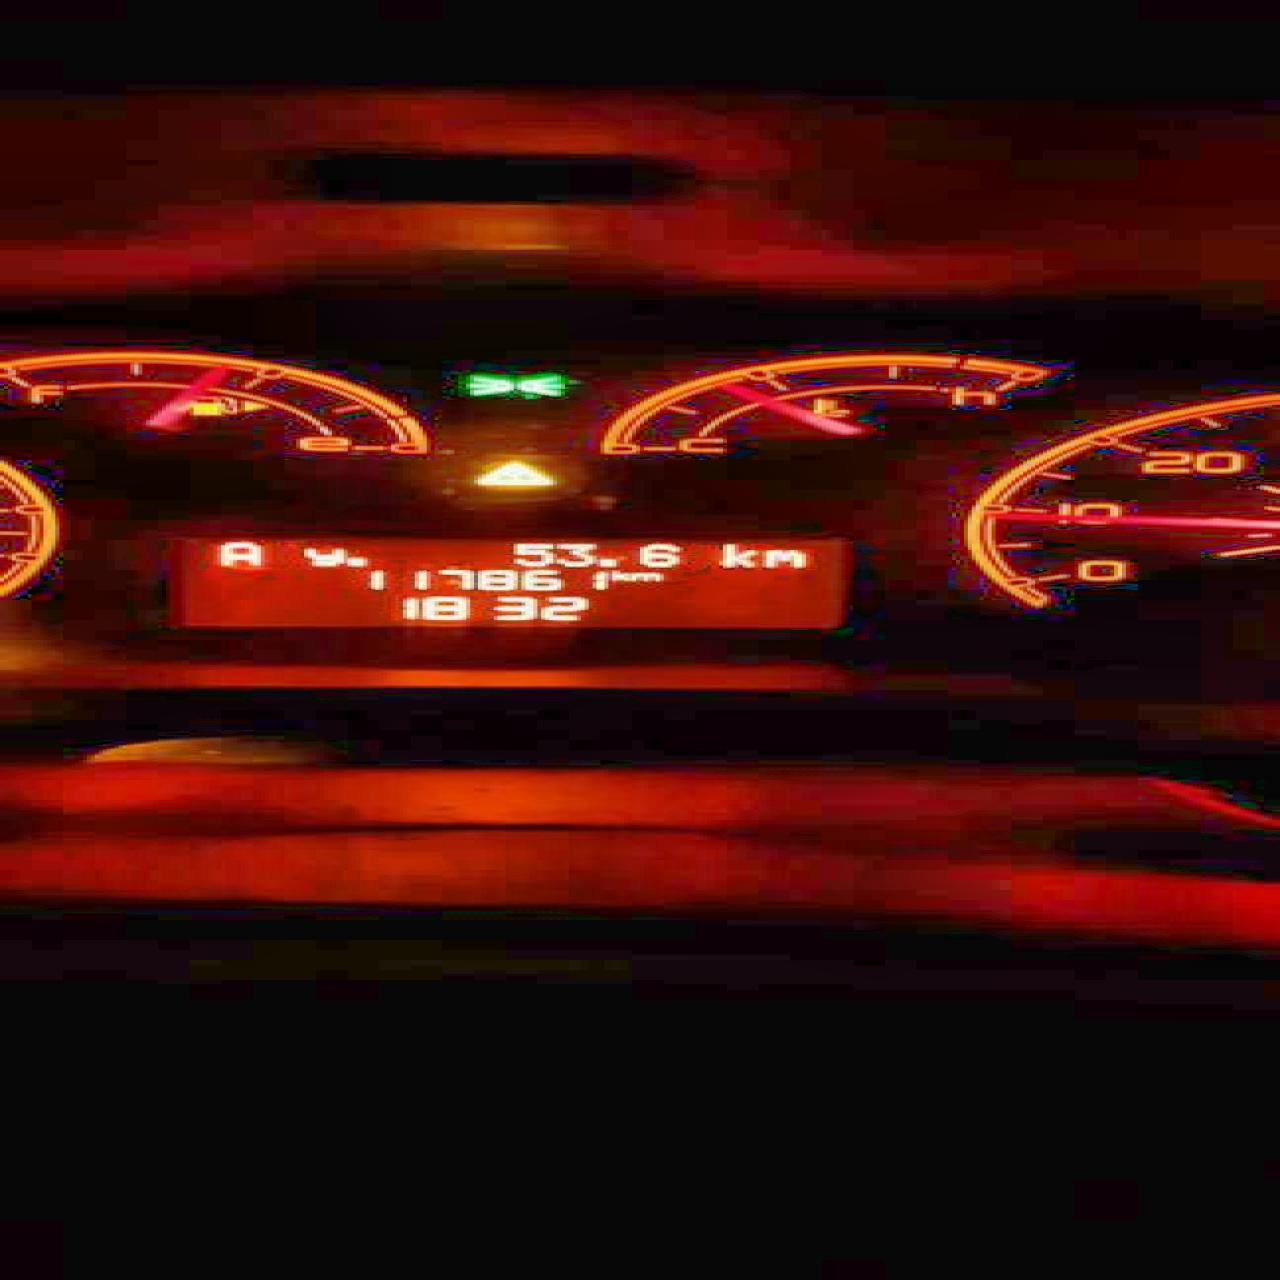-: (340, 554, 372, 566), (593, 557, 620, 567)
1: (363, 567, 387, 591), (399, 595, 418, 621), (407, 568, 423, 591), (588, 570, 605, 590)
2: (537, 594, 588, 620)
3: (485, 592, 533, 620), (557, 540, 597, 567)
5: (510, 542, 553, 566)
6: (632, 543, 680, 567), (518, 568, 561, 590)
7: (430, 566, 470, 588)
8: (418, 594, 470, 621), (475, 567, 513, 591)
X: (213, 540, 260, 566), (712, 542, 758, 567), (758, 546, 805, 567), (297, 546, 340, 566), (628, 570, 663, 581), (608, 568, 628, 580)
odometer: (173, 537, 845, 627)
